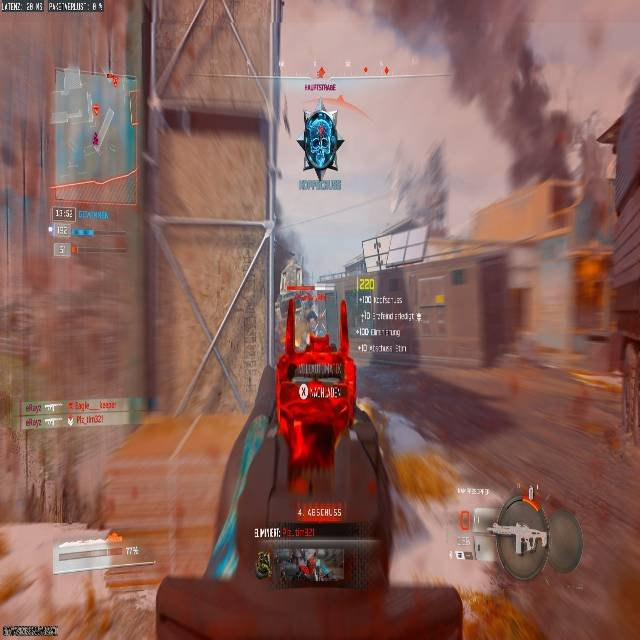player: (297, 104, 341, 174)
